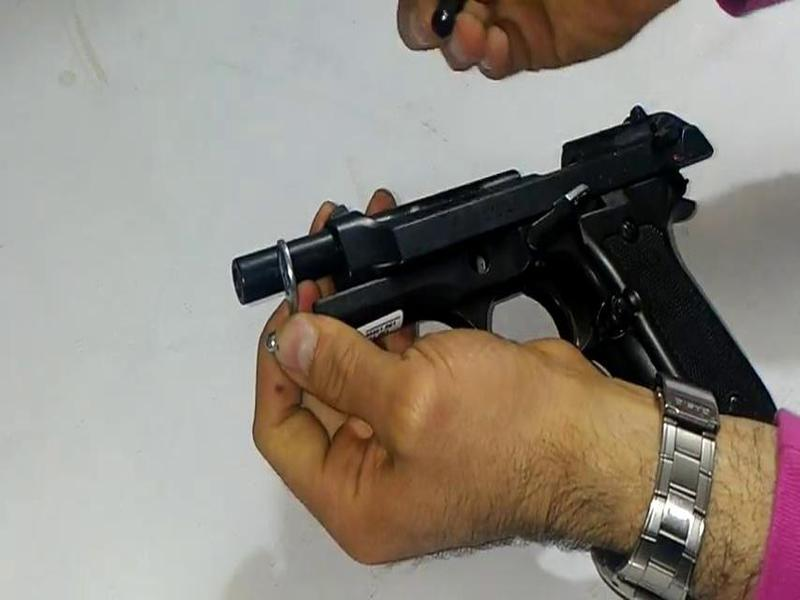Pistola: (210, 98, 781, 491)
